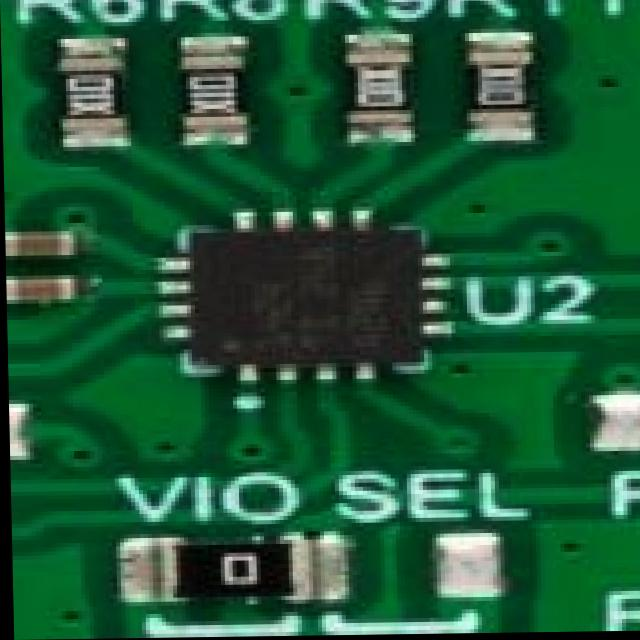IC: (152, 211, 445, 380)
capacitor: (4, 223, 81, 260), (5, 271, 77, 308)
resistor: (129, 536, 341, 617), (161, 45, 265, 154), (45, 46, 133, 157), (337, 47, 419, 146), (465, 38, 533, 141)
